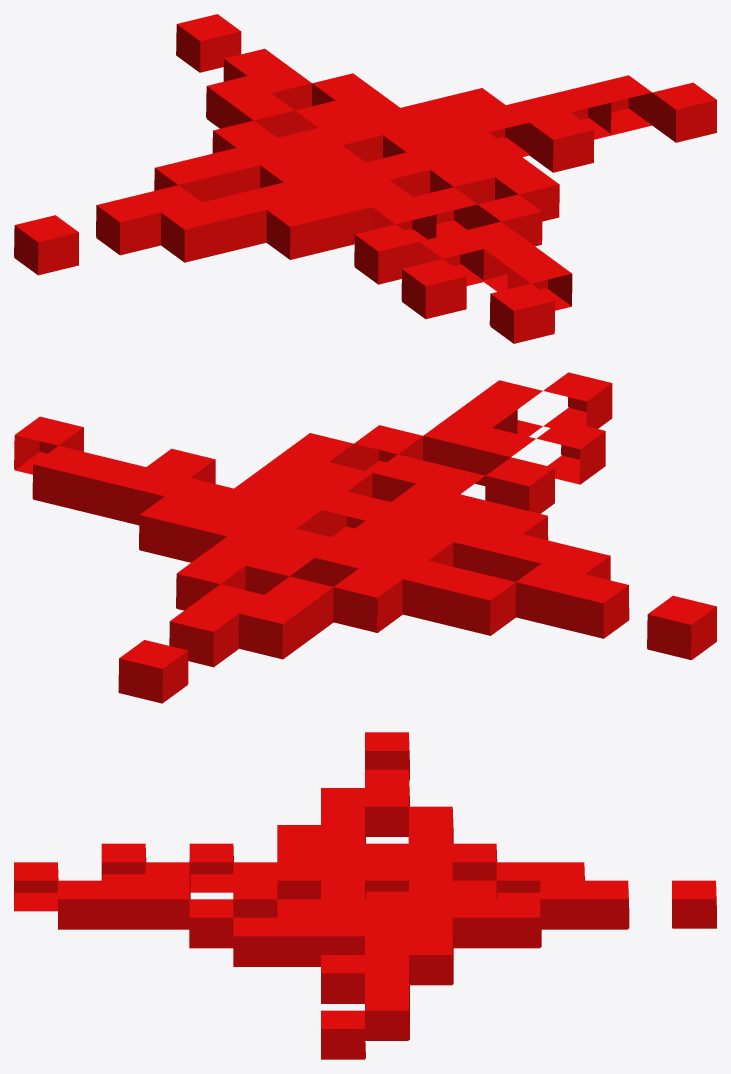
The model's file is redstone10.obj.
3 views of the same model, one above another, from view 1: azimuth 30°, elevation 25°; view 2: azimuth 150°, elevation 25°; view 3: azimuth 270°, elevation 25° (orthographic). The views are drawn at different scales.
Parts seen in each view (by area): view 1: Plane, Cube; view 2: Plane, Cube; view 3: Plane, Cube.
Boxes of the visible parts, x1,y1,x2,y2 form: Plane: (15, 14, 716, 310); Cube: (14, 24, 716, 343); Plane: (15, 372, 716, 668); Cube: (14, 383, 716, 703); Plane: (14, 732, 715, 1028); Cube: (14, 741, 716, 1059).
Bounding box in the file's own units: 1 × 0.0481 × 1.
Materials: 2 (2 with a texture image).
